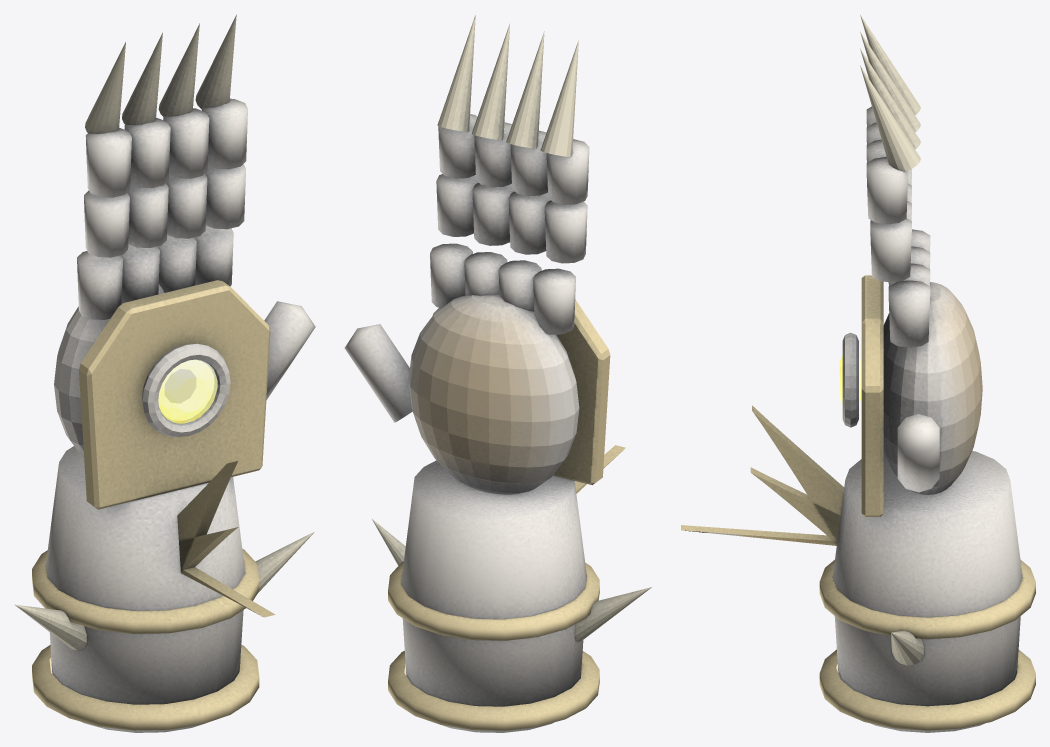
The model's file is arma_lend_manopla_celestial.glb.
3 renders of one model, left to right at view 1: azimuth 30°, elevation 25°; view 2: azimuth 150°, elevation 25°; view 3: azimuth 270°, elevation 25°, orthographic. The views are drawn at different scales.
Visible parts, largest first — view 1: arma_lend_manopla_celestial, gema_costas; view 2: arma_lend_manopla_celestial; view 3: arma_lend_manopla_celestial.
Boxes of the visible parts, x1,y1,x2,y2 form: arma_lend_manopla_celestial: (14, 14, 315, 732); gema_costas: (158, 359, 217, 423); arma_lend_manopla_celestial: (344, 15, 651, 732); arma_lend_manopla_celestial: (681, 15, 1035, 732).
Bounding box in the file's own units: 0.1863 × 0.395 × 0.1936.
Materials: 2 (1 with a texture image).
